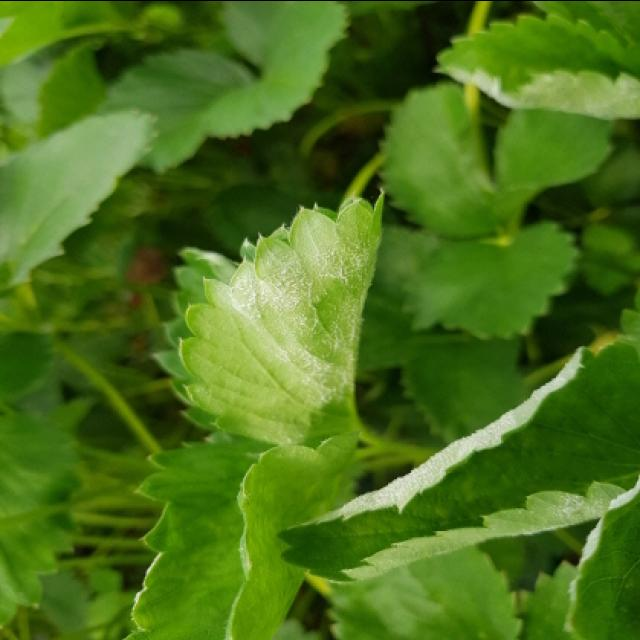Powdery Mildew Leaf: (275, 335, 638, 584), (177, 184, 386, 450), (121, 429, 361, 640), (433, 11, 638, 120), (563, 481, 638, 640)
